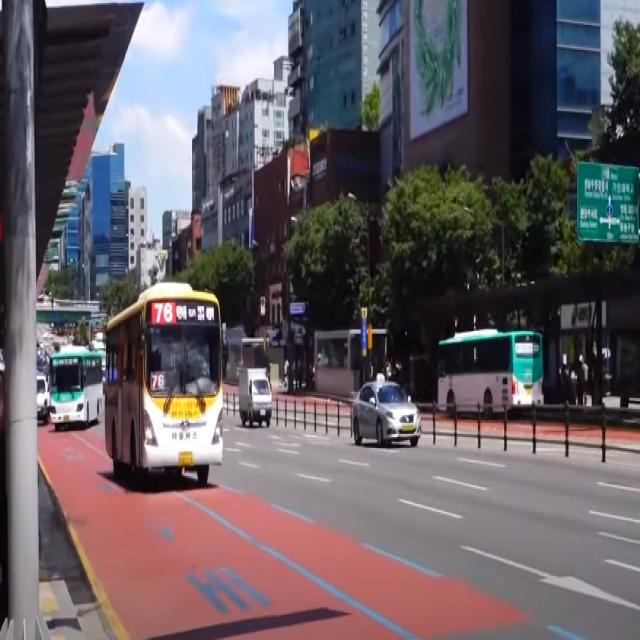bus-number: (153, 302, 174, 324), (53, 360, 58, 366)
